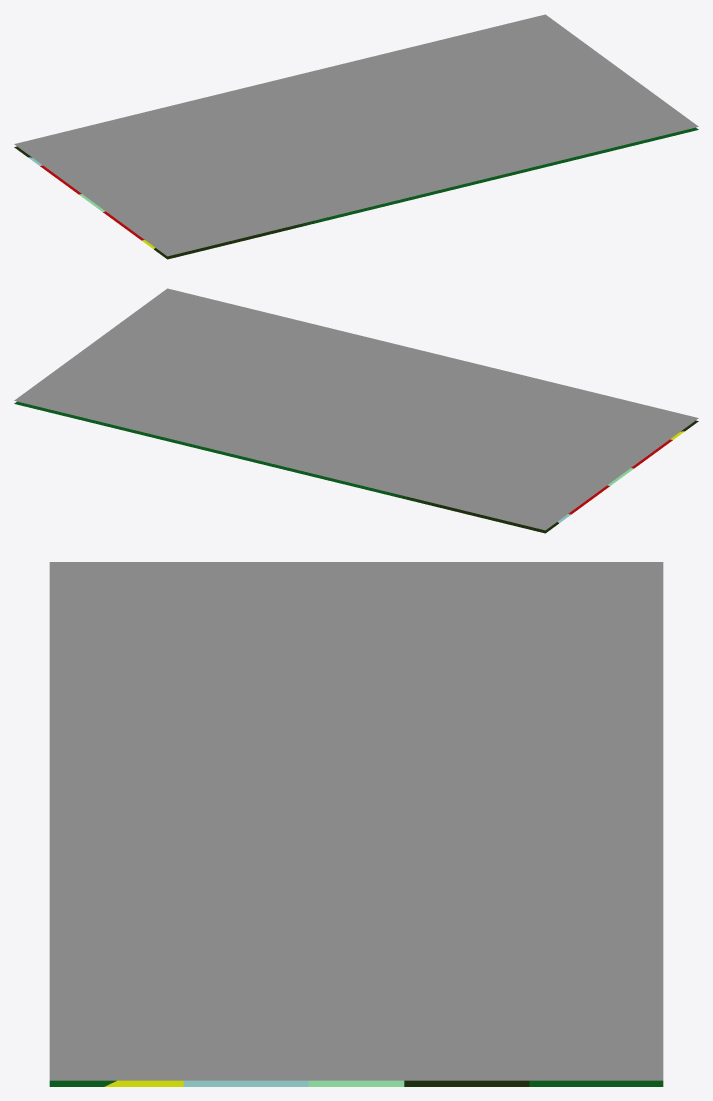
File: RT CHIC V01 T04.FBX
3 renders of one model, top to bottom at view 1: azimuth 30°, elevation 25°; view 2: azimuth 150°, elevation 25°; view 3: azimuth 270°, elevation 25°, orthographic. The views are drawn at different scales.
Parts seen in each view (by area): view 1: RT CHIC V01 T04 SNAP, RT CHIC V01 T04 NAV Grass.Conc, RT CHIC V01 T04 HI; view 2: RT CHIC V01 T04 SNAP, RT CHIC V01 T04 NAV Grass, RT CHIC V01 T04 HI; view 3: RT CHIC V01 T04 SNAP, RT CHIC V01 T04 HI, RT CHIC V01 T04 NAV Grass.
Boxes of the visible parts, bbox=[...] form: RT CHIC V01 T04 SNAP: bbox=[14, 14, 698, 256]; RT CHIC V01 T04 NAV Grass.Conc: bbox=[276, 127, 698, 231]; RT CHIC V01 T04 HI: bbox=[14, 146, 332, 259]; RT CHIC V01 T04 SNAP: bbox=[14, 288, 698, 530]; RT CHIC V01 T04 NAV Grass: bbox=[14, 401, 430, 504]; RT CHIC V01 T04 HI: bbox=[379, 420, 698, 533]; RT CHIC V01 T04 SNAP: bbox=[49, 562, 663, 1080]; RT CHIC V01 T04 HI: bbox=[183, 1080, 529, 1086]; RT CHIC V01 T04 NAV Grass: bbox=[529, 1080, 663, 1086].
Size of the model in its own units: 180 by 1 by 90.
